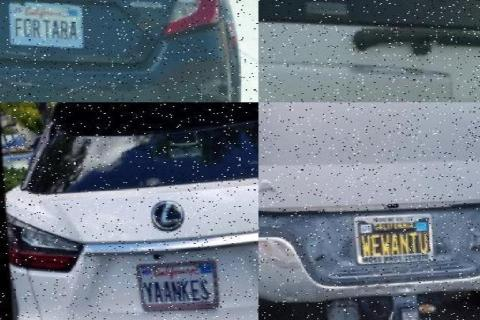LicensePlate: (354, 204, 442, 268), (133, 254, 225, 311), (8, 0, 89, 48), (242, 0, 258, 8)
